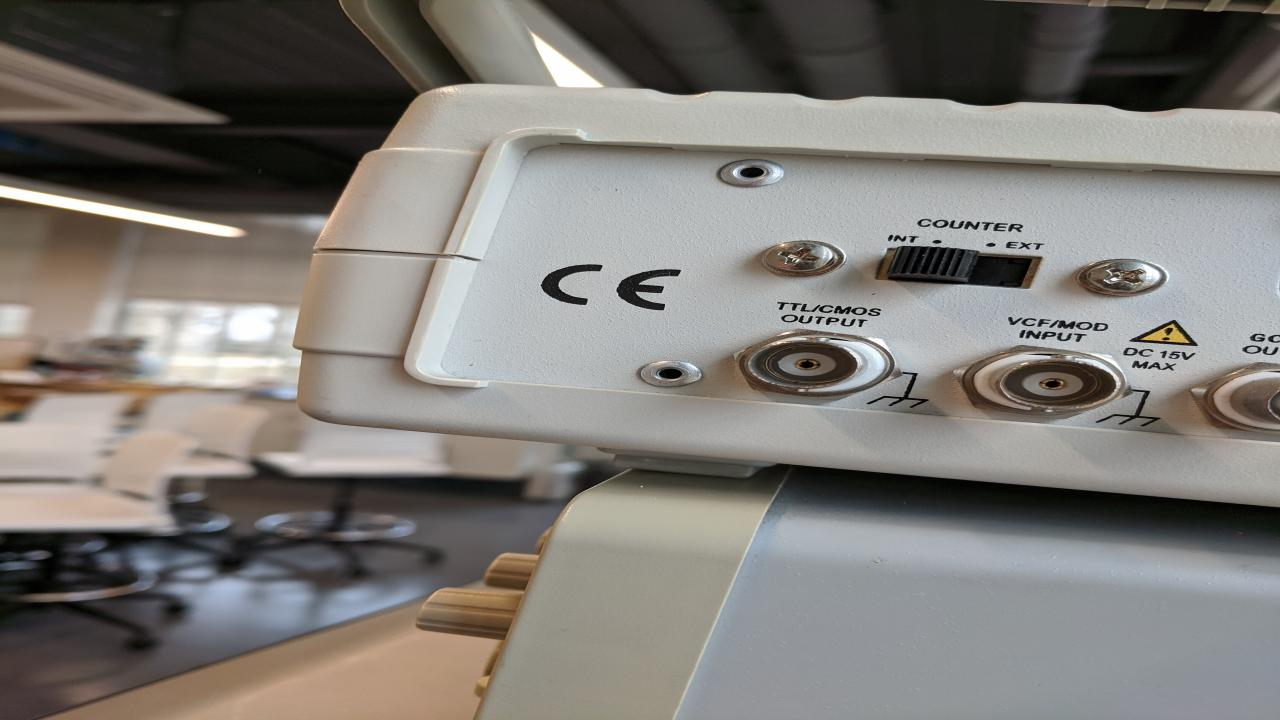CRS: (1082, 259, 1162, 294), (766, 241, 837, 275)
